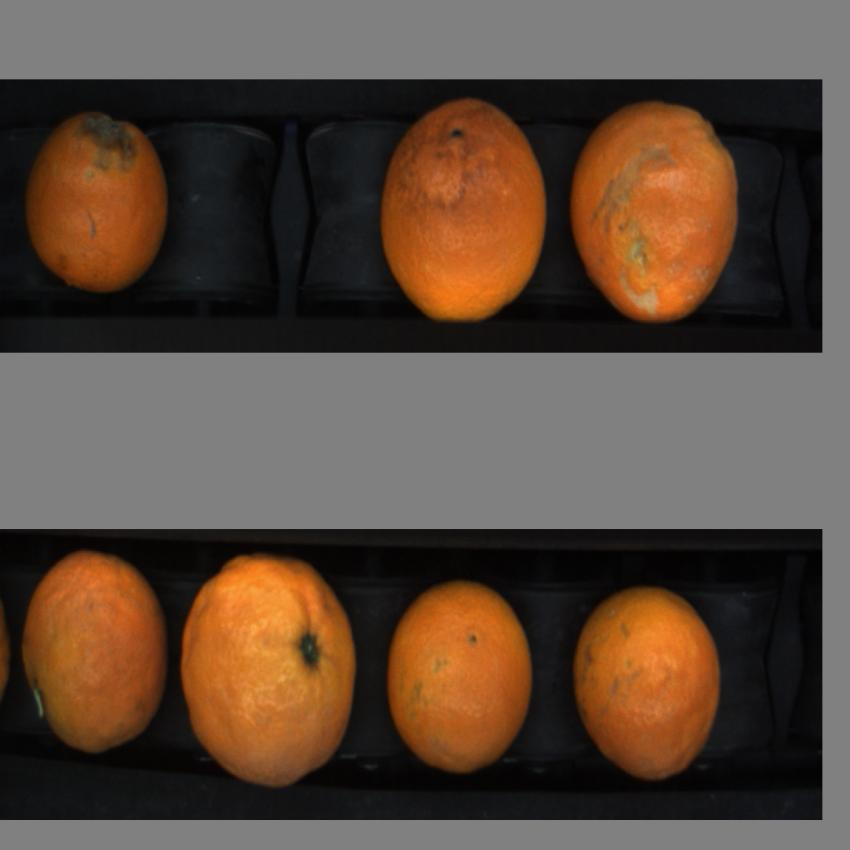Buen estado: (181, 550, 364, 794), (567, 104, 749, 322), (385, 574, 538, 772), (572, 583, 728, 777)
Mal estado: (378, 92, 551, 326), (20, 552, 171, 766), (25, 111, 178, 290)
